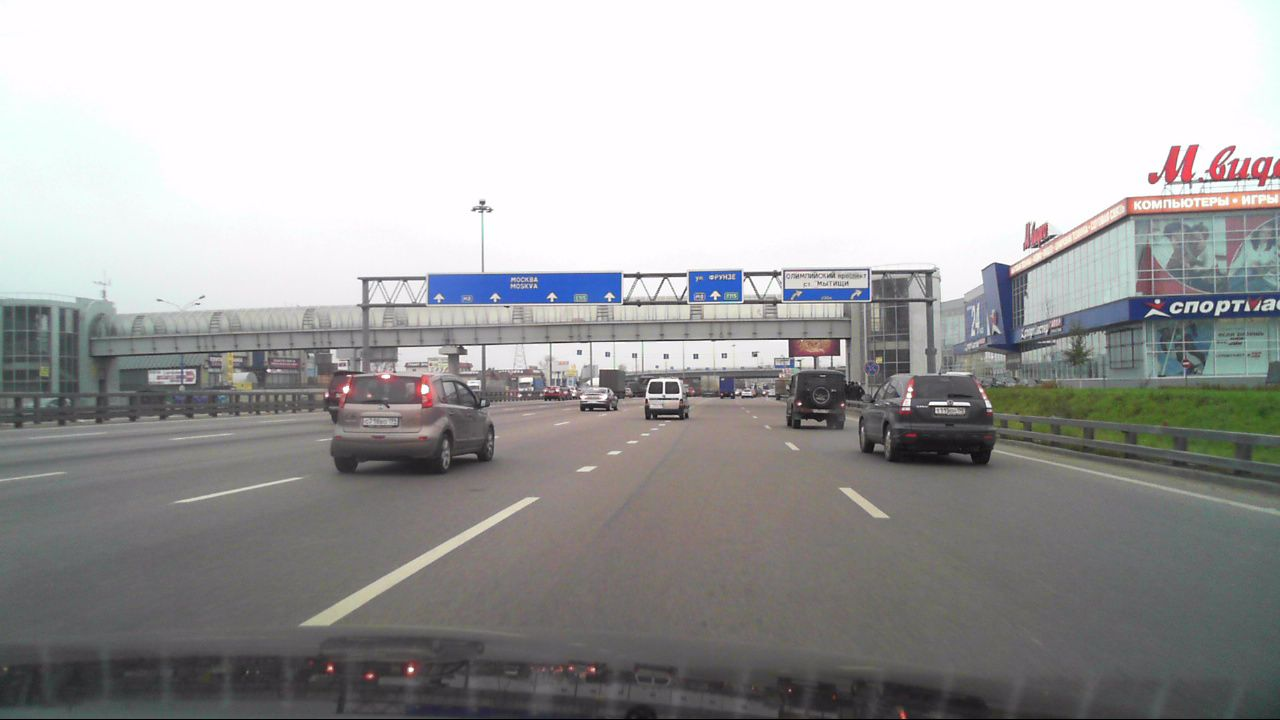No Parking: (863, 360, 880, 376)
